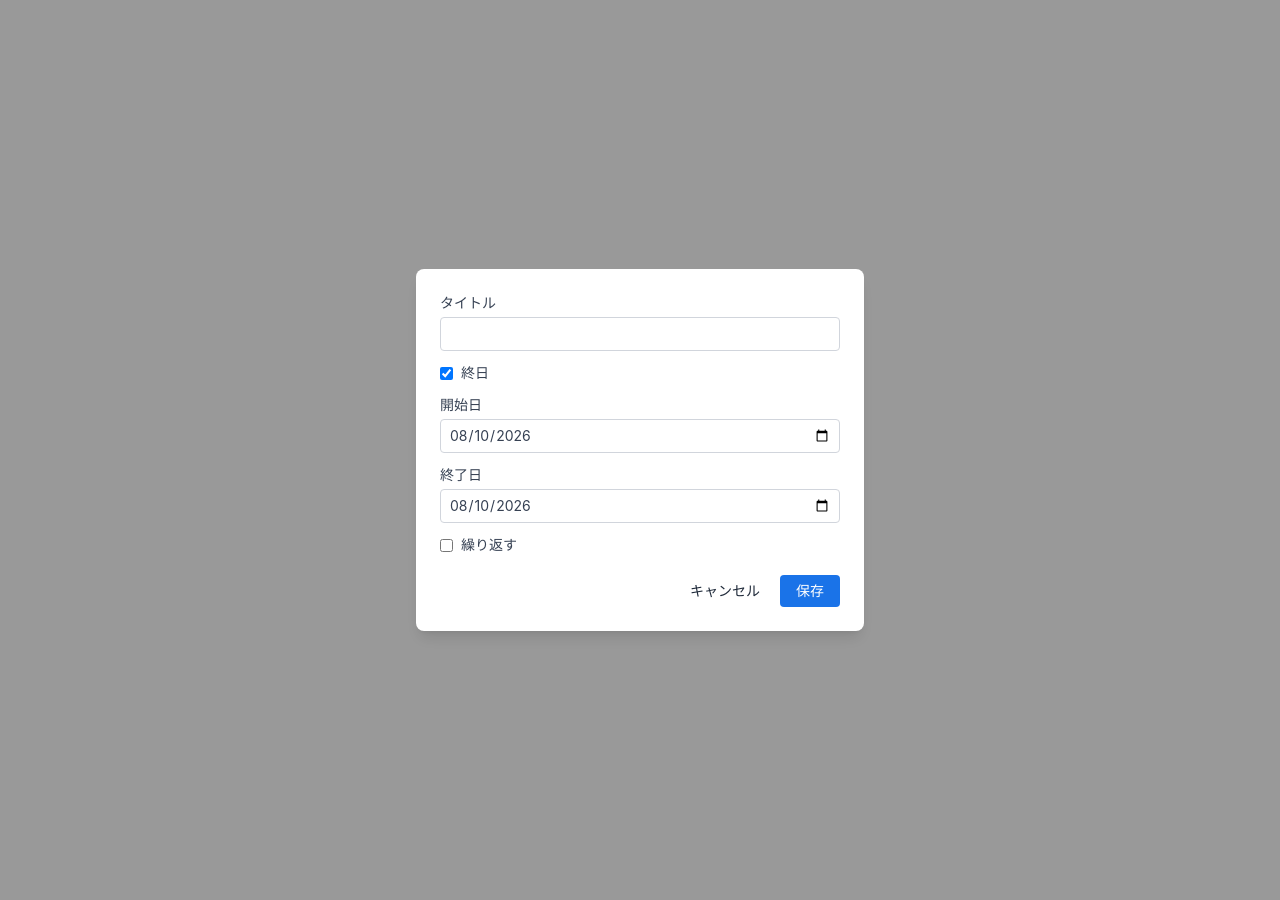
Scenario: shows a validation error and does not submit when the title is blank
This screenshot has width=1280, height=900.
Click the button "保存" at (810,591), box [780,575,840,607]
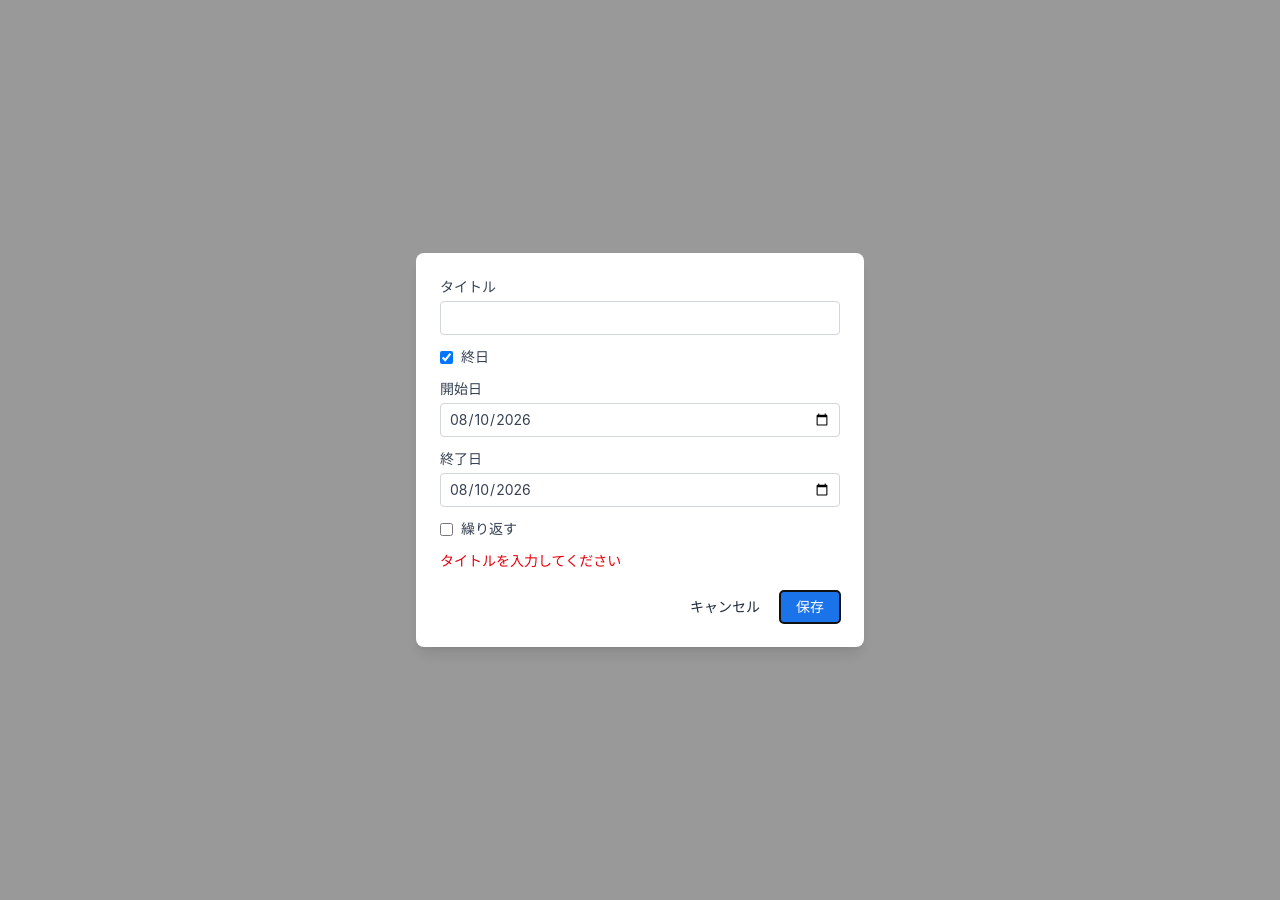
Expected: the message reads "タイトルを入力してください", [440,552,621,569]
